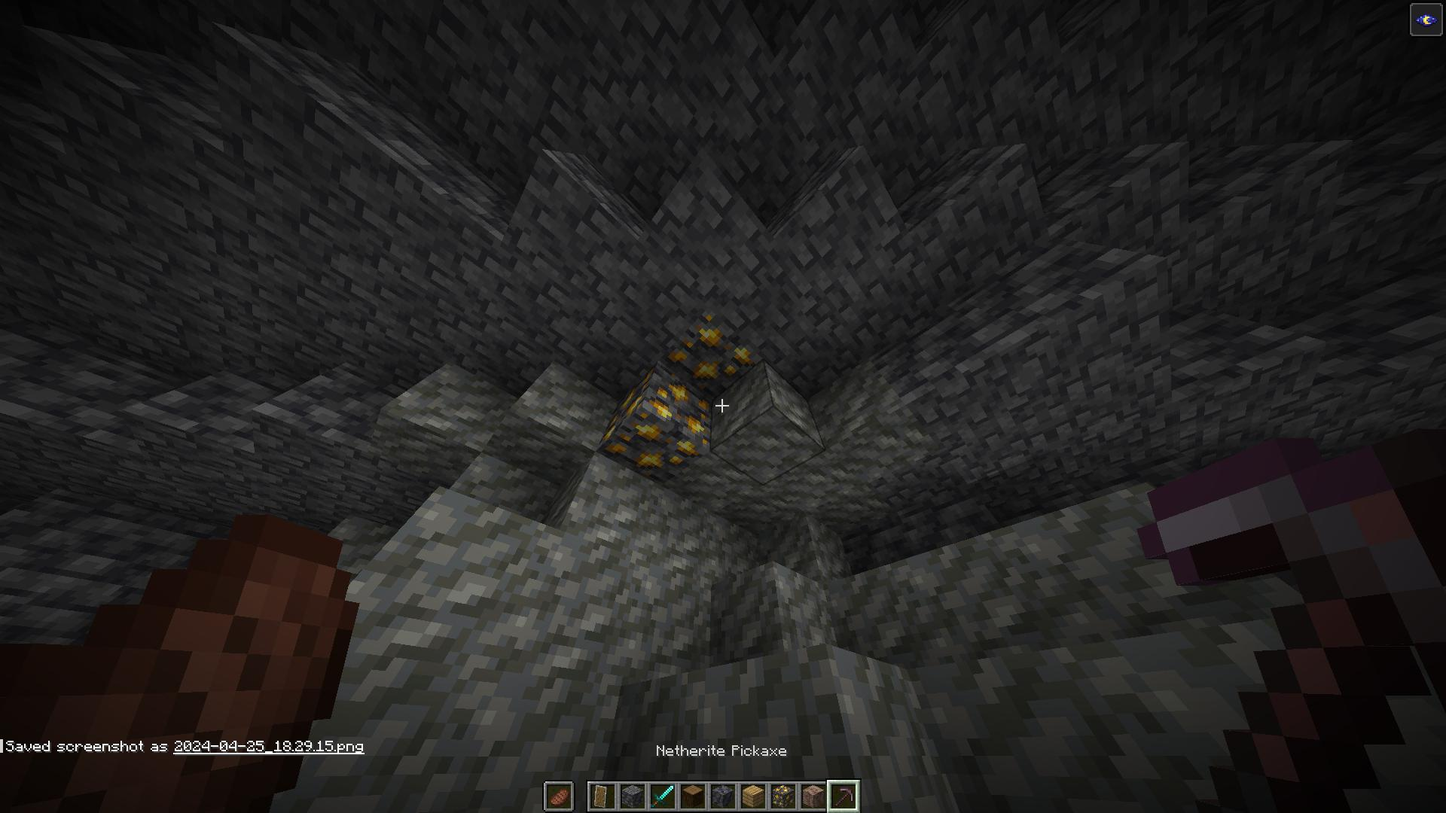gold ore: (596, 364, 712, 485), (663, 309, 763, 402)
